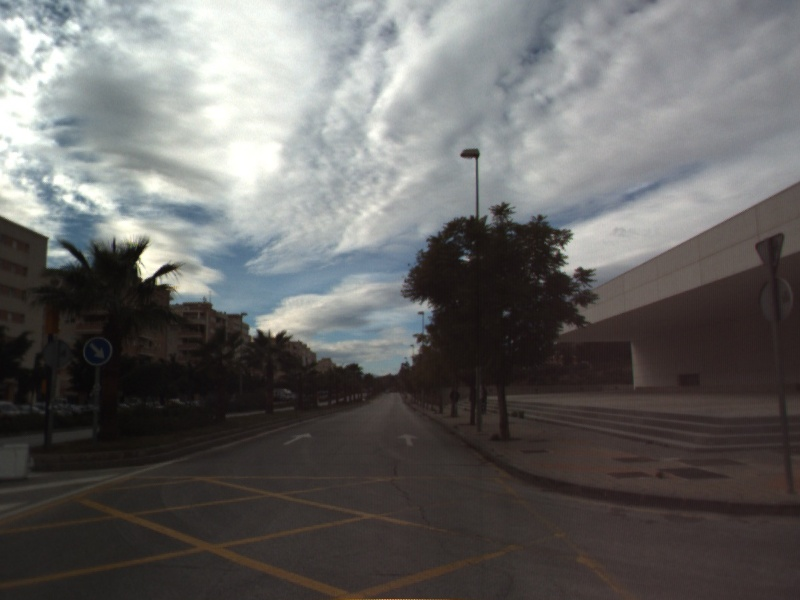STRAIGHT: (282, 431, 314, 447), (395, 431, 421, 448)
